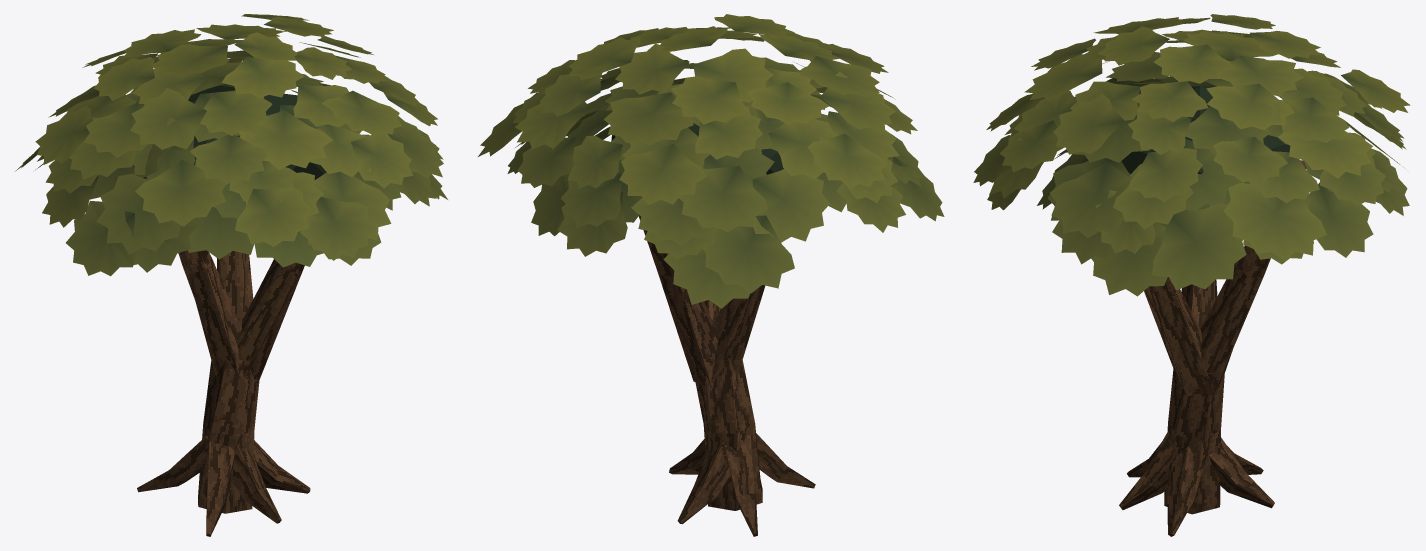
Rendered from tree_dark.glb.
3 renders of one model, left to right at view 1: azimuth 30°, elevation 25°; view 2: azimuth 150°, elevation 25°; view 3: azimuth 270°, elevation 25°, orthographic. The views are drawn at different scales.
Visible parts, largest first — view 1: sway_crown.004, tree_dark; view 2: sway_crown.004, tree_dark; view 3: sway_crown.004, tree_dark.
Part boxes in pixels (bbox=[...]): sway_crown.004: bbox=[15, 14, 447, 379]; tree_dark: bbox=[137, 359, 310, 536]; sway_crown.004: bbox=[478, 14, 944, 388]; tree_dark: bbox=[669, 359, 815, 536]; sway_crown.004: bbox=[973, 14, 1410, 396]; tree_dark: bbox=[1119, 366, 1274, 536].
Bounding box in the file's own units: 4.66 × 5.27 × 4.48.
3 materials, 1 textured.
